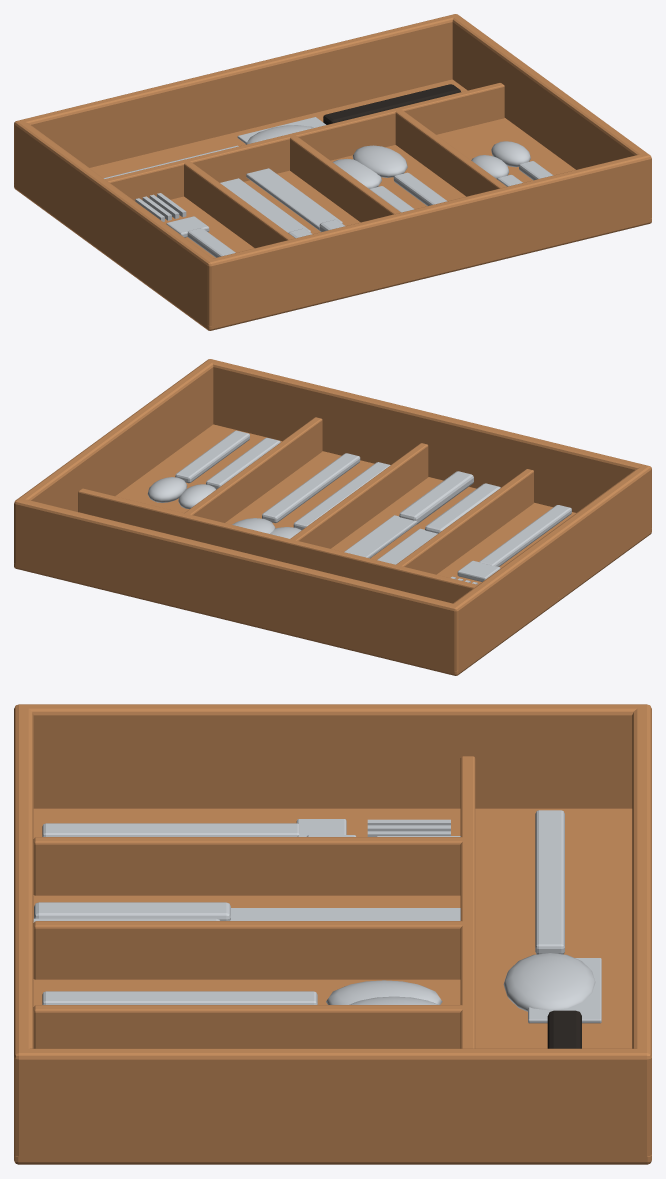
Rendered from hh_cat_cutlery_tray.glb.
3 renders of one model, top to bottom at view 1: azimuth 30°, elevation 25°; view 2: azimuth 150°, elevation 25°; view 3: azimuth 270°, elevation 25°, orthographic. The views are drawn at different scales.
Parts seen in each view (by area): view 1: wall, wall.002, wall.001, base, divider, wall.003, divider.003, divider.001, divider.002, knife.003, spatula_handle, knife.001 (+8 smaller); view 2: wall.002, wall, wall.001, base, wall.003, divider, divider.002, divider.003, divider.001, spoon.004, fork.002, knife.002 (+9 smaller); view 3: wall.003, wall.001, base, divider.002, divider.001, divider.003, wall, wall.002, divider, spoon.008, spoon.009, spoon (+7 smaller).
Part boxes in pixels (left/top/right/bottom): wall: left=204, top=153, right=651, bottom=328; wall.002: left=14, top=14, right=458, bottom=185; wall.001: left=14, top=120, right=215, bottom=328; base: left=14, top=79, right=651, bottom=330; divider: left=105, top=83, right=504, bottom=200; wall.003: left=451, top=14, right=651, bottom=218; divider.003: left=395, top=110, right=506, bottom=196; divider.001: left=184, top=161, right=294, bottom=248; divider.002: left=290, top=135, right=400, bottom=222; knife.003: left=246, top=168, right=342, bottom=230; spatula_handle: left=323, top=84, right=460, bottom=124; knife.001: left=220, top=178, right=310, bottom=232; wall.002: left=14, top=499, right=461, bottom=672; wall: left=207, top=359, right=651, bottom=530; wall.001: left=449, top=467, right=651, bottom=673; base: left=14, top=424, right=651, bottom=675; wall.003: left=14, top=359, right=214, bottom=566; divider: left=78, top=488, right=477, bottom=603; divider.002: left=290, top=443, right=428, bottom=548; divider.003: left=184, top=417, right=322, bottom=522; divider.001: left=396, top=469, right=533, bottom=574; spoon.004: left=262, top=453, right=360, bottom=523; fork.002: left=479, top=505, right=571, bottom=566; knife.002: left=399, top=471, right=473, bottom=524; wall.003: left=14, top=1048, right=651, bottom=1156; wall.001: left=19, top=704, right=651, bottom=808; base: left=14, top=808, right=651, bottom=1164; divider.002: left=33, top=921, right=465, bottom=979; divider.001: left=33, top=837, right=464, bottom=895; divider.003: left=33, top=1005, right=465, bottom=1048; wall: left=14, top=704, right=33, bottom=1161; wall.002: left=632, top=704, right=651, bottom=1160; divider: left=460, top=756, right=475, bottom=1048; spoon.008: left=535, top=810, right=564, bottom=954; spoon.009: left=503, top=952, right=595, bottom=1011; spoon: left=42, top=991, right=317, bottom=1004.
Size of the model in its own units: 0.34 by 0.05 by 0.26.
